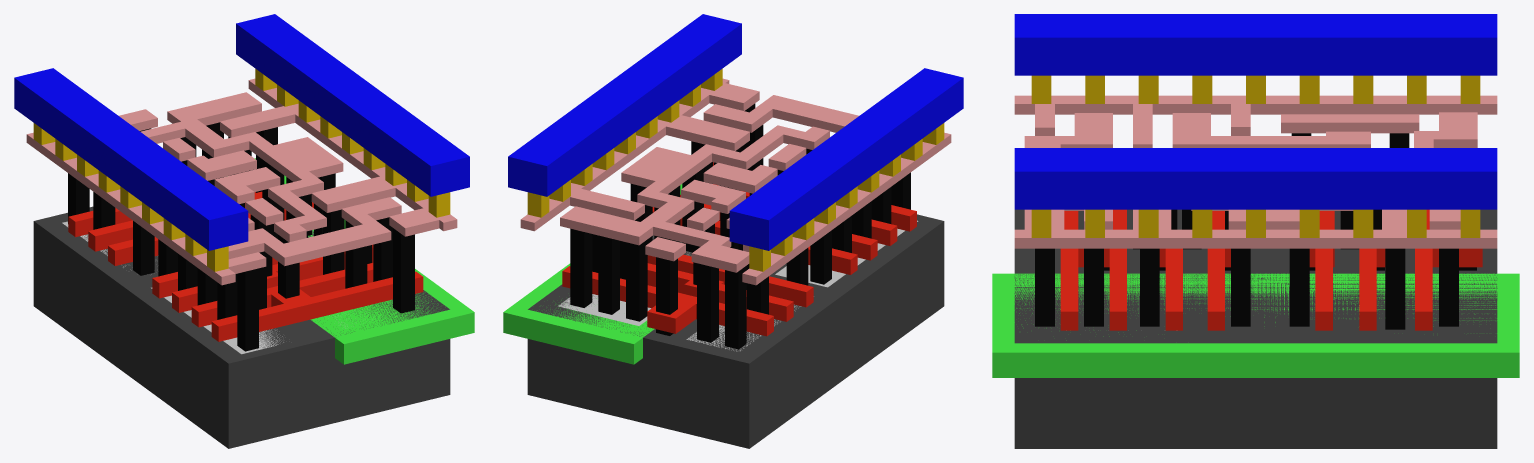
Rendered from sky130_fd_sc_hd__o221a_2.obj.
3 renders of one model, left to right at view 1: azimuth 30°, elevation 25°; view 2: azimuth 150°, elevation 25°; view 3: azimuth 270°, elevation 25°, orthographic. The views are drawn at different scales.
Parts seen in each view (by area): view 1: subs, metal1, li, licon, poly, nwell, mcon, diff; view 2: subs, metal1, li, licon, poly, nwell, mcon, diff, tap; view 3: metal1, subs, li, nwell, poly, licon, mcon.
Part boxes in pixels (bbox=[...]): subs: bbox=[33, 169, 450, 448]; metal1: bbox=[14, 14, 469, 250]; li: bbox=[26, 78, 457, 285]; licon: bbox=[68, 122, 414, 351]; poly: bbox=[68, 191, 423, 341]; nwell: bbox=[254, 158, 474, 364]; mcon: bbox=[33, 68, 450, 271]; diff: bbox=[62, 221, 283, 354]; subs: bbox=[527, 214, 944, 448]; metal1: bbox=[508, 14, 963, 250]; li: bbox=[520, 78, 951, 285]; licon: bbox=[570, 103, 910, 349]; poly: bbox=[562, 162, 916, 336]; nwell: bbox=[503, 184, 682, 364]; mcon: bbox=[527, 68, 944, 271]; diff: bbox=[686, 220, 918, 351]; tap: bbox=[558, 252, 689, 325]; metal1: bbox=[1014, 14, 1497, 209]; subs: bbox=[1014, 209, 1497, 448]; li: bbox=[1014, 95, 1497, 248]; nwell: bbox=[992, 273, 1519, 377]; poly: bbox=[1060, 209, 1482, 330]; licon: bbox=[1035, 133, 1476, 329]; mcon: bbox=[1031, 75, 1480, 237].
Bounding box in the file's own units: 3.2 × 2.74 × 4.52.
